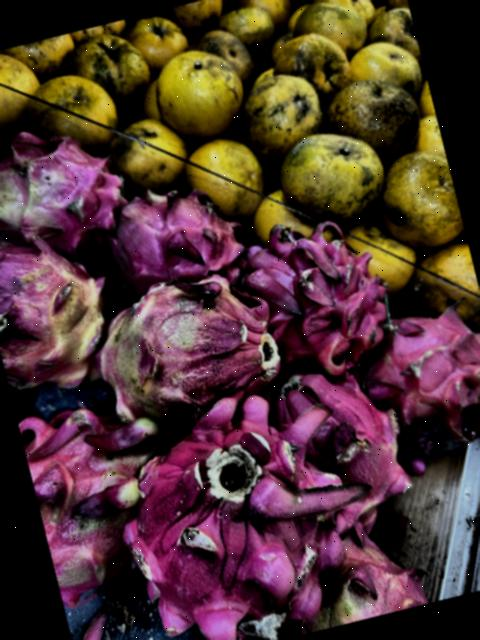buah-naga-belum-matang: (74, 261, 290, 430), (16, 384, 186, 586), (0, 213, 128, 407), (0, 118, 124, 265), (296, 524, 436, 630)
buah-naga-matang: (102, 370, 372, 640), (267, 344, 426, 530), (238, 203, 400, 374), (350, 298, 480, 462), (94, 173, 247, 300)
